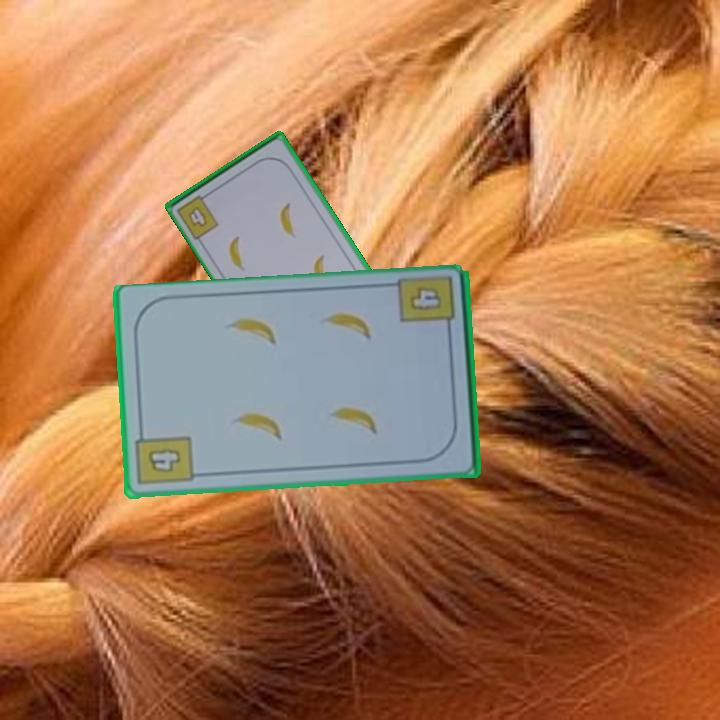4b: (132, 425, 196, 489), (173, 189, 222, 242), (409, 286, 442, 311)
